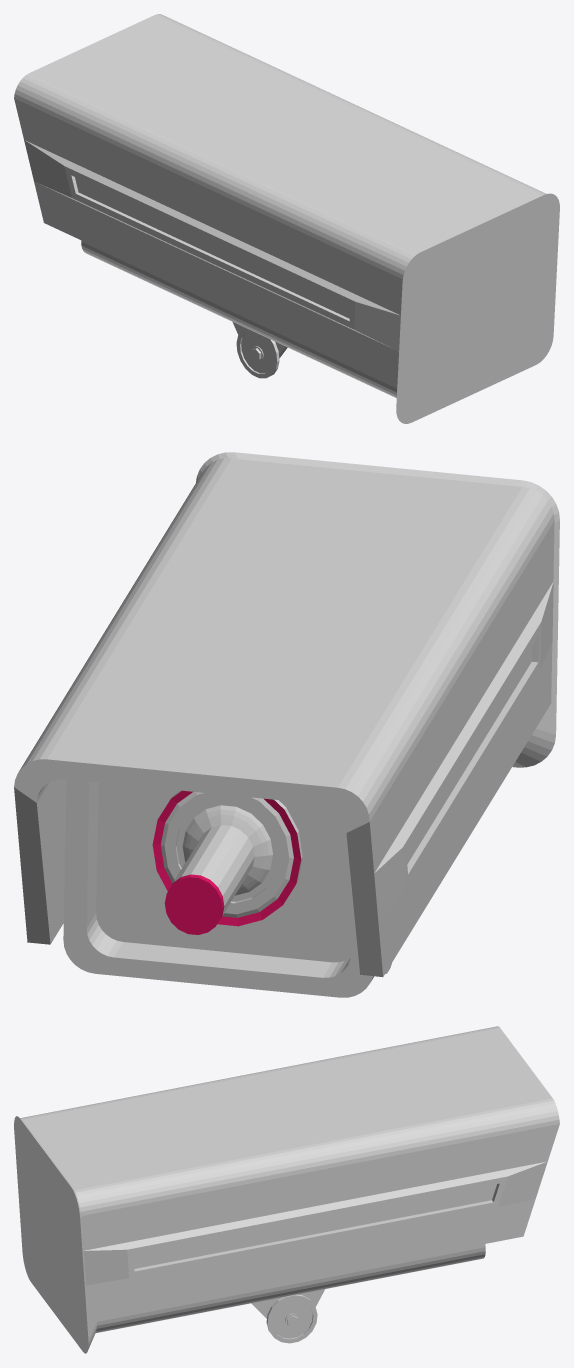
The picture shows the model from 3 angles, top to bottom: view 1: azimuth 30°, elevation 25°; view 2: azimuth 150°, elevation 25°; view 3: azimuth 270°, elevation 25°; orthographic projection. The views are drawn at different scales.
Parts seen in each view (by area): view 1: Rectangle001; view 2: Rectangle001; view 3: Rectangle001.
Part boxes in pixels (<box>): Rectangle001: <box>14,14,559,423</box>; Rectangle001: <box>14,452,559,997</box>; Rectangle001: <box>14,1026,559,1353</box>.
Size of the model in its own units: 21.29 by 14.52 by 32.4.
